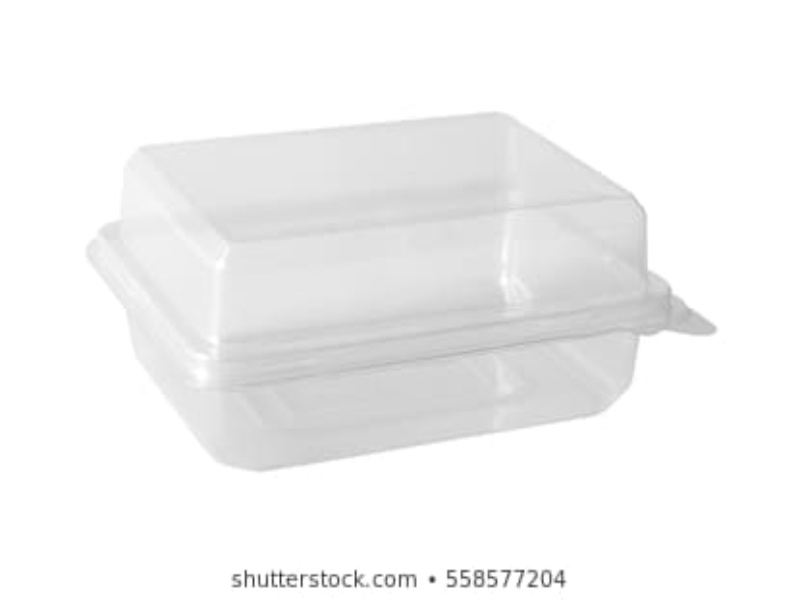plastic-container: (88, 108, 718, 471)
